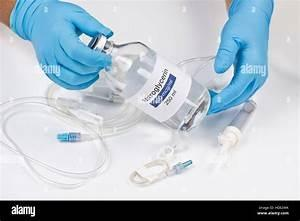Glove: (10, 0, 112, 89), (209, 0, 273, 113)
Iv_Bottle: (89, 36, 209, 130)
